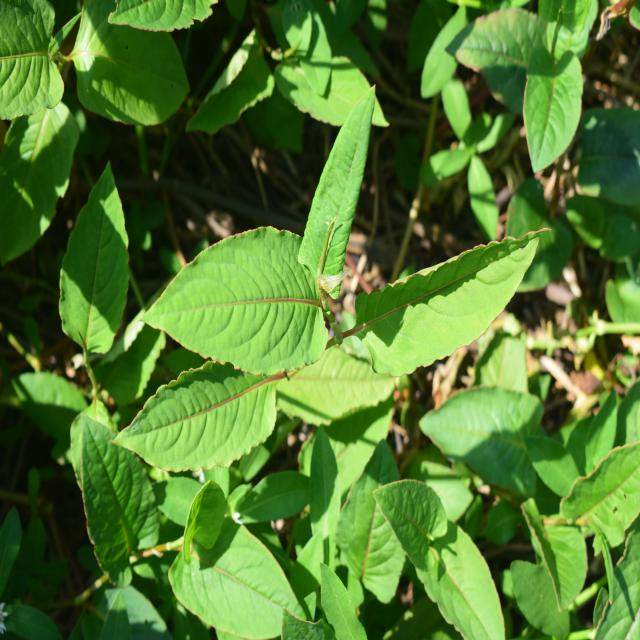Chinese_knotweed: (120, 154, 551, 439), (74, 407, 305, 631)
